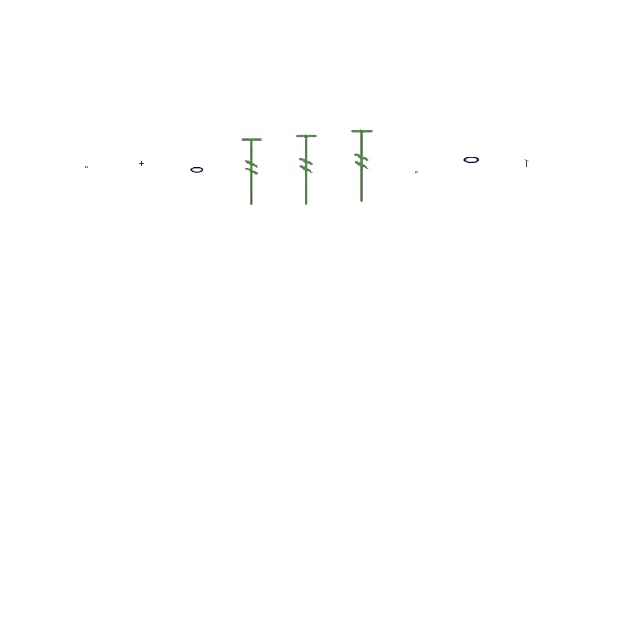chain: (462, 154, 482, 166), (189, 164, 205, 176), (86, 166, 88, 168), (416, 172, 418, 174)
double: (140, 162, 144, 166)
enseble_chain: (524, 159, 530, 167)
fan: (348, 126, 376, 206), (294, 131, 320, 209), (239, 136, 265, 208)
